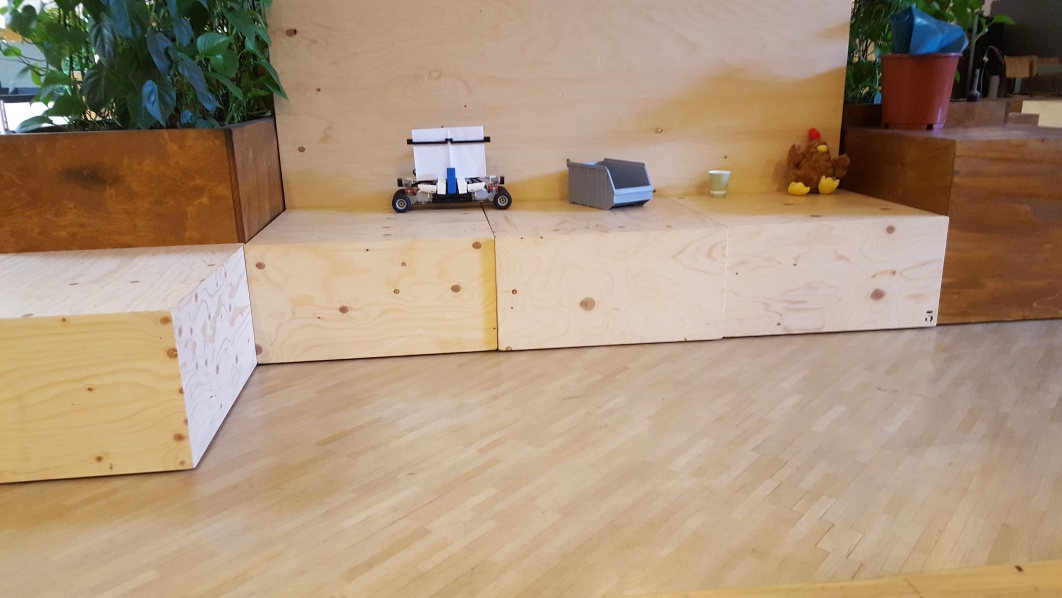beam: (445, 166, 458, 198)
chicken: (785, 128, 848, 196)
cup: (705, 167, 732, 199)
tray: (565, 155, 656, 211)
